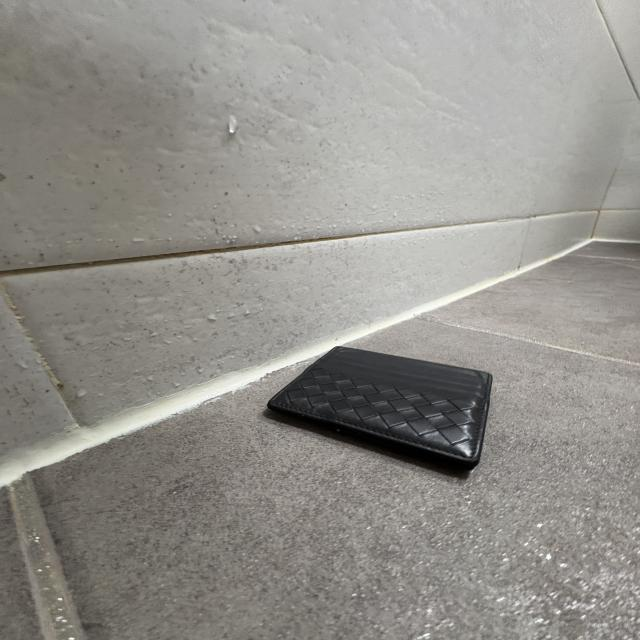wallet: (262, 343, 498, 484)
